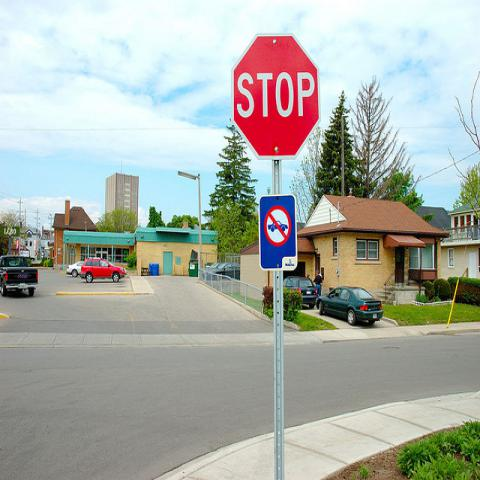car: (315, 286, 383, 325), (283, 276, 318, 309), (80, 258, 125, 283), (212, 263, 241, 277), (202, 262, 220, 281), (67, 260, 84, 278)
truck: (0, 256, 39, 297)
